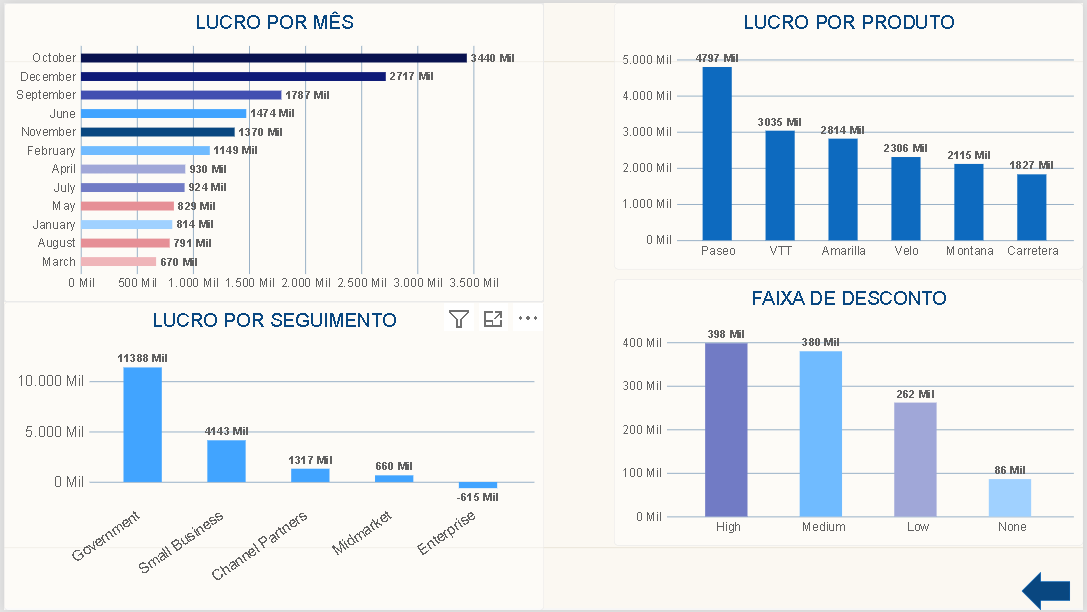

The dashboard page shown, as its layout file describes it:
{"tool":"powerbi","page":{"name":"LUCRO","canvas":[1920,1080],"ordinal":3},"visuals":[{"type":"lineClusteredColumnComboChart","title":"LUCRO POR SEGUIMENTO","fields":{"Category":["financials.Segment"],"Y":["Sum(financials.Profit)"]},"box":[0,532.2,960,548.9],"z":1},{"type":"lineClusteredColumnComboChart","title":"LUCRO POR PRODUTO","fields":{"Category":["financials.Product"],"Y":["Sum(financials.Profit)"]},"box":[1085.2,0,834.8,473.7],"z":3},{"type":"lineClusteredColumnComboChart","title":"FAIXA DE DESCONTO","fields":{"Category":["financials.Discount Band"],"Y":["Sum(financials.Units Sold)"]},"box":[1085.2,490.4,834.8,473.7],"z":4},{"type":"barChart","title":"LUCRO POR MÊS","fields":{"Category":["financials.Month Name"],"Y":["Sum(financials.Profit)"]},"box":[0,0,960,532.2],"z":5},{"type":"shape","box":[1808.9,1011.1,86.7,68.9],"z":6}]}

Visuals, with their boxes in screenshot pixels (x1, y1, x2, y2), scaled from the page's 1920x1080 canvas onto the 1087x612 screenshot:
"LUCRO POR SEGUIMENTO" lineClusteredColumnComboChart: 0 302 544 611
"LUCRO POR PRODUTO" lineClusteredColumnComboChart: 614 0 1086 268
"FAIXA DE DESCONTO" lineClusteredColumnComboChart: 614 278 1086 546
"LUCRO POR MÊS" barChart: 0 0 544 302
shape: 1024 573 1073 611
